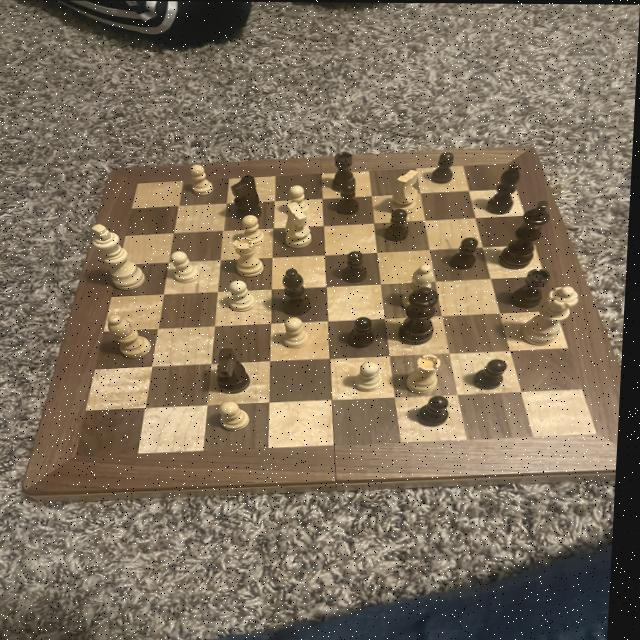bishop: (483, 162, 526, 218), (278, 265, 320, 317)
black-bishop: (496, 197, 555, 272)
black-king: (213, 347, 259, 400), (227, 173, 266, 223)
black-knight: (471, 356, 514, 394), (416, 393, 458, 428), (447, 235, 484, 273), (339, 247, 375, 285), (346, 315, 383, 351), (333, 181, 370, 216), (428, 149, 461, 186), (384, 207, 416, 245)
black-pawn: (394, 284, 449, 347)
black-queen: (509, 266, 557, 309), (331, 149, 360, 193)
black-rook: (104, 313, 160, 361), (400, 262, 439, 317)
white-bishop: (87, 221, 154, 292)
white-king: (387, 165, 427, 215), (279, 201, 318, 250)
white-knight: (278, 315, 315, 352), (169, 250, 207, 285), (216, 400, 256, 433), (185, 161, 219, 198), (286, 182, 315, 223), (226, 281, 262, 314), (355, 360, 390, 392), (241, 211, 269, 247)
white-pawn: (522, 282, 583, 349)
white-queen: (404, 353, 447, 395), (232, 236, 271, 278)
